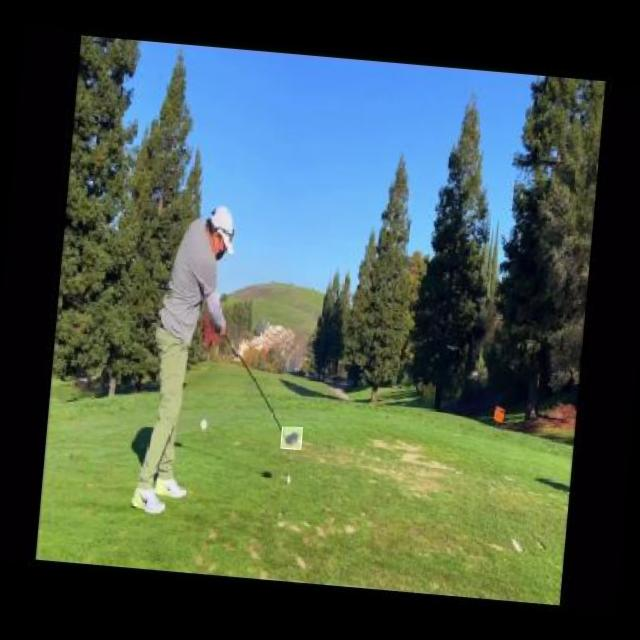club head: (280, 426, 302, 450)
